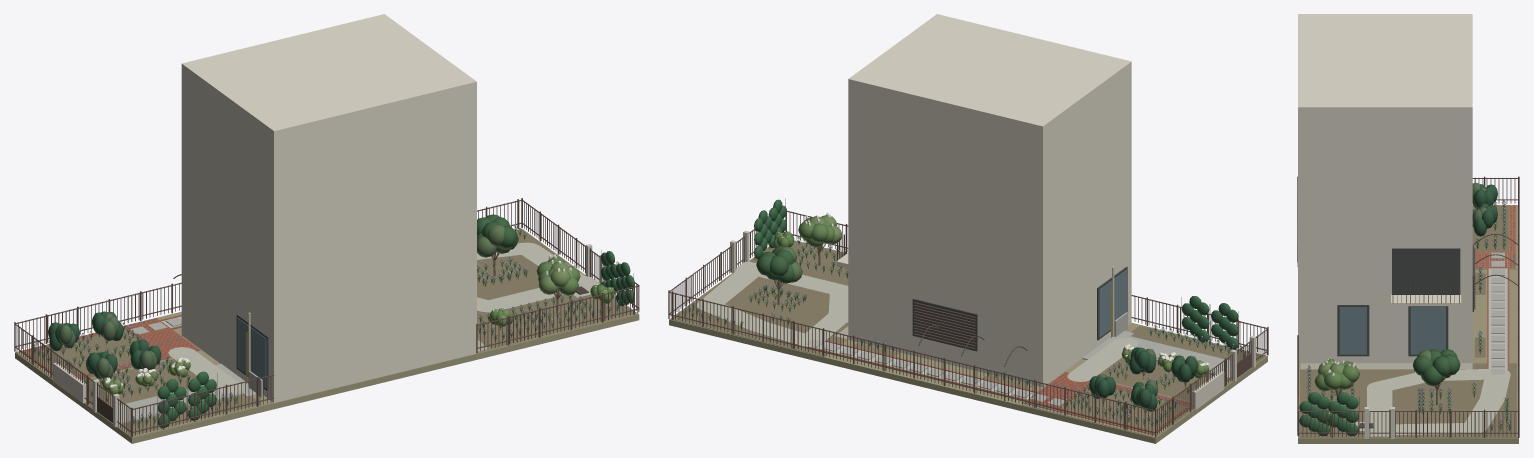
The model's file is design-C-year3.glb.
The picture shows the model from 3 angles, left to right: view 1: azimuth 30°, elevation 25°; view 2: azimuth 150°, elevation 25°; view 3: azimuth 270°, elevation 25°; orthographic projection. The views are drawn at different scales.
Visible parts, largest first — view 1: Unsurveyed_Building_Mass, Boundary_Fences_Approximate_metal, R0_Flat_Datum, Proposed_Planting_Beds_And_Mulch, S-west-border, Footprint_Proxy_Unsurveyed, N-low-border, Leaves_N14_Foliage_TJ, S-loop_New_Warm_Grey_Paving, Red_Brick_Joints_Indicative_brick, N-woodland, Visible_planter_Openings_glass (+14 smaller); view 2: Unsurveyed_Building_Mass, Boundary_Fences_Approximate_metal, R0_Flat_Datum, S-loop_New_Warm_Grey_Paving, Proposed_Planting_Beds_And_Mulch, N-low-border, Footprint_Proxy_Unsurveyed, Leaves_N14_Foliage_TJ, Wall_Services_Visible_Proxies_dark, Wall_Services_Visible_Proxies_metal, Red_Brick_Joints_Indicative_brick, Zone_3_Steps_And_Gravel_slab (+17 smaller); view 3: Unsurveyed_Building_Mass, S-loop_New_Warm_Grey_Paving, Visible_bare_Openings_dark, Proposed_Planting_Beds_And_Mulch, Boundary_Fences_Approximate_metal, R0_Flat_Datum, Visible_bare_Openings_glass, Leaves_S07_Foliage_TJ, Zone_3_Steps_And_Gravel_slab, Leaves_S01_Foliage_OS, S-east-border, Zone_3_Steps_And_Gravel_gravel (+20 smaller).
Boxes of the visible parts, x1=… form: Unsurveyed_Building_Mass: x1=181, y1=14, x2=476, y2=394; Boundary_Fences_Approximate_metal: x1=14, y1=198, x2=639, y2=437; R0_Flat_Datum: x1=15, y1=231, x2=639, y2=443; Proposed_Planting_Beds_And_Mulch: x1=41, y1=229, x2=636, y2=435; S-west-border: x1=477, y1=296, x2=632, y2=346; Footprint_Proxy_Unsurveyed: x1=181, y1=327, x2=476, y2=402; N-low-border: x1=28, y1=329, x2=149, y2=375; Leaves_N14_Foliage_TJ: x1=158, y1=371, x2=216, y2=427; S-loop_New_Warm_Grey_Paving: x1=477, y1=242, x2=594, y2=312; Red_Brick_Joints_Indicative_brick: x1=20, y1=318, x2=200, y2=379; N-woodland: x1=85, y1=360, x2=196, y2=403; Visible_planter_Openings_glass: x1=237, y1=317, x2=266, y2=388; Unsurveyed_Building_Mass: x1=848, y1=14, x2=1131, y2=378; Boundary_Fences_Approximate_metal: x1=668, y1=209, x2=1268, y2=437; R0_Flat_Datum: x1=669, y1=247, x2=1267, y2=443; S-loop_New_Warm_Grey_Paving: x1=697, y1=263, x2=848, y2=346; Proposed_Planting_Beds_And_Mulch: x1=673, y1=240, x2=1263, y2=430; N-low-border: x1=1061, y1=387, x2=1187, y2=430; Footprint_Proxy_Unsurveyed: x1=848, y1=314, x2=1131, y2=387; Leaves_N14_Foliage_TJ: x1=1181, y1=296, x2=1238, y2=349; Wall_Services_Visible_Proxies_dark: x1=912, y1=298, x2=977, y2=351; Wall_Services_Visible_Proxies_metal: x1=913, y1=302, x2=975, y2=349; Red_Brick_Joints_Indicative_brick: x1=1023, y1=371, x2=1191, y2=435; Zone_3_Steps_And_Gravel_slab: x1=805, y1=339, x2=1066, y2=406; Unsurveyed_Building_Mass: x1=1298, y1=14, x2=1472, y2=355; S-loop_New_Warm_Grey_Paving: x1=1367, y1=369, x2=1510, y2=435; Visible_bare_Openings_dark: x1=1337, y1=248, x2=1460, y2=356; Proposed_Planting_Beds_And_Mulch: x1=1300, y1=251, x2=1516, y2=436; Boundary_Fences_Approximate_metal: x1=1297, y1=176, x2=1519, y2=437; R0_Flat_Datum: x1=1298, y1=270, x2=1518, y2=443; Visible_bare_Openings_glass: x1=1339, y1=307, x2=1445, y2=354; Leaves_S07_Foliage_TJ: x1=1299, y1=392, x2=1358, y2=435; Zone_3_Steps_And_Gravel_slab: x1=1491, y1=252, x2=1504, y2=374; Leaves_S01_Foliage_OS: x1=1412, y1=349, x2=1460, y2=386; S-east-border: x1=1397, y1=389, x2=1514, y2=435; Zone_3_Steps_And_Gravel_gravel: x1=1488, y1=253, x2=1507, y2=370.
Size of what is drawn, in the model's own units: 25.22 by 13.1 by 10.06.
